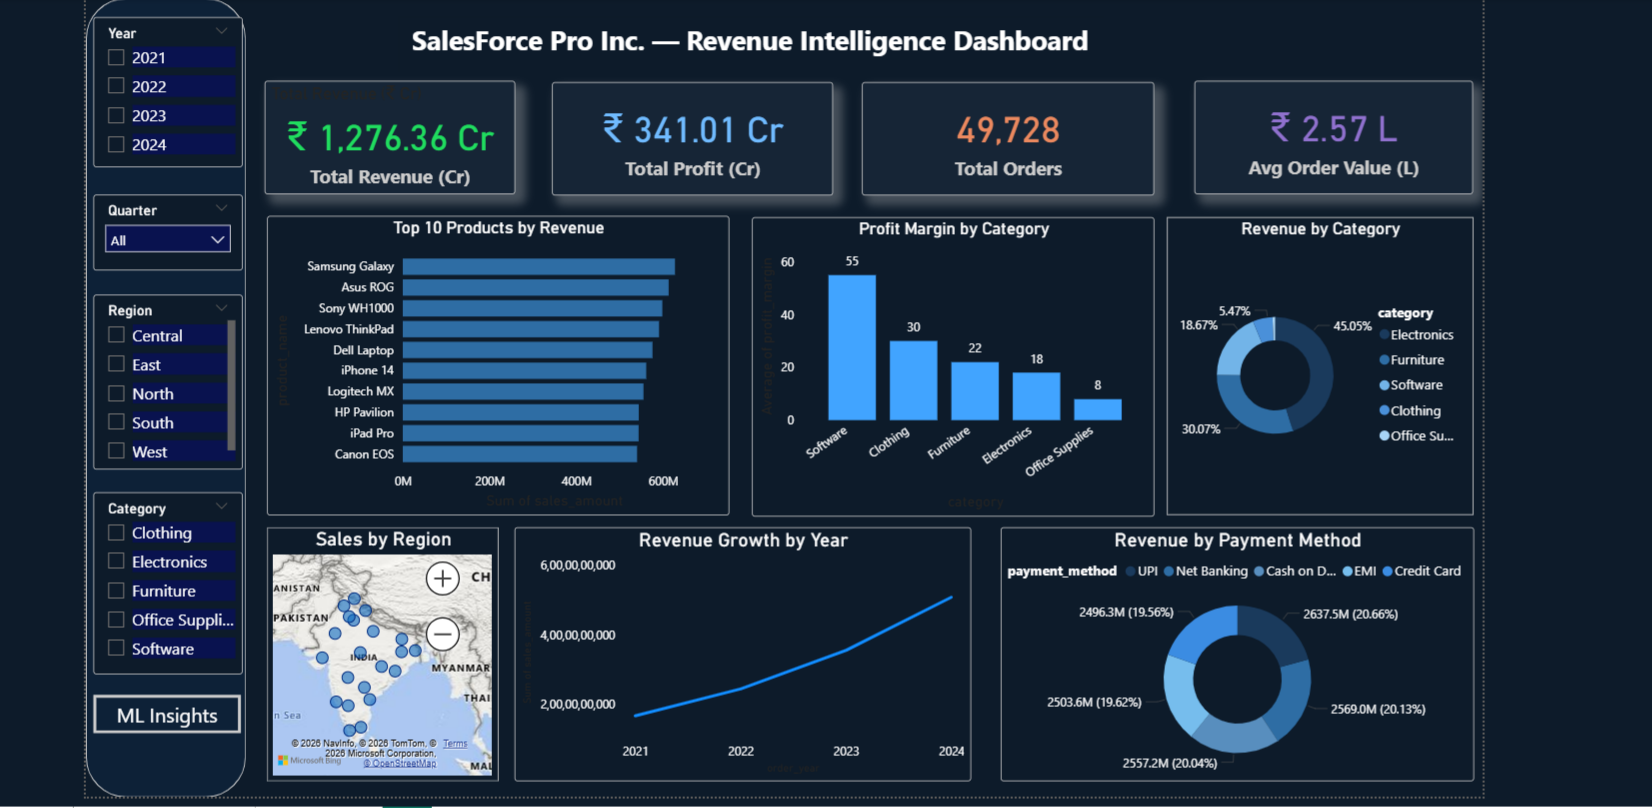

The page's visual inventory and layout, read from the dashboard file:
{"tool":"powerbi","page":{"name":"Executive summary","canvas":[1400,800],"ordinal":0},"visuals":[{"type":"textbox","box":[314.7,18.7,705.3,54.7],"z":0},{"type":"card","title":"Total Revenue (₹ Cr)","fields":{"Values":["public sales_data.Total Revenue (Cr)"]},"box":[179.7,82.9,251.6,113.3],"z":1000},{"type":"card","fields":{"Values":["public sales_data.Avg Order Value (L)"]},"box":[1111.3,82.9,279.2,113.3],"z":2000},{"type":"card","fields":{"Values":["public sales_data.Total Orders"]},"box":[778.2,84.3,293,113.3],"z":3000},{"type":"card","fields":{"Values":["public sales_data.Total Profit (Cr)"]},"box":[467.2,84.3,282,113.3],"z":4000},{"type":"shape","box":[0,0,160.3,800.3],"z":5000},{"type":"slicer","fields":{"Values":["public sales_data.order_year"]},"box":[6.9,19.4,149.3,150.7],"z":6000},{"type":"slicer","fields":{"Values":["public sales_data.order_quarter"]},"box":[6.9,196.3,149.3,76],"z":7000},{"type":"slicer","fields":{"Values":["public sales_data.region"]},"box":[6.9,297.2,149.3,175.5],"z":8000},{"type":"slicer","fields":{"Values":["public sales_data.category"]},"box":[6.9,494.8,149.3,182.4],"z":9000},{"type":"clusteredBarChart","title":"Top 10 Products by Revenue","fields":{"Category":["public sales_data.product_name"],"Y":["Sum(public sales_data.sales_amount)"]},"box":[181.1,218.4,463,299.9],"z":10000},{"type":"donutChart","title":"Revenue by Category","fields":{"Category":["public sales_data.category"],"Y":["Sum(public sales_data.sales_amount)"]},"box":[1083.6,219.8,306.8,298.6],"z":11000},{"type":"clusteredColumnChart","title":"Profit Margin by Category","fields":{"Category":["public sales_data.category"],"Y":["Avg(public sales_data.profit_margin)"]},"box":[667.6,219.8,403.6,299.9],"z":12000},{"type":"map","title":"Sales by Region","fields":{"Category":["public sales_data.state"]},"box":[181.1,529.4,232.2,254.3],"z":13000},{"type":"lineChart","title":"Revenue Growth by Year","fields":{"Category":["public sales_data.order_year"],"Y":["Sum(public sales_data.sales_amount)"]},"box":[429.9,529.4,457.5,254.3],"z":14000},{"type":"donutChart","title":"Revenue by Payment Method","fields":{"Category":["public sales_data.payment_method"],"Y":["Sum(public sales_data.sales_amount)"]},"box":[916.4,529.4,474.1,254.3],"z":15000},{"type":"actionButton","box":[6.9,698,147.9,38.7],"z":16000}]}

Visuals, with their boxes on the page's 1400x800 design canvas (x1, y1, x2, y2). These are canvas units, not pixel positions in the 1652x808 screenshot, which may show the page scaled, cropped or inside an application window:
textbox: [x1=315, y1=19, x2=1020, y2=73]
"Total Revenue (₹ Cr)" card: [x1=180, y1=83, x2=431, y2=196]
card - public sales_data.Avg Order Value (L): [x1=1111, y1=83, x2=1390, y2=196]
card - public sales_data.Total Orders: [x1=778, y1=84, x2=1071, y2=198]
card - public sales_data.Total Profit (Cr): [x1=467, y1=84, x2=749, y2=198]
shape: [x1=0, y1=0, x2=160, y2=800]
slicer - public sales_data.order_year: [x1=7, y1=19, x2=156, y2=170]
slicer - public sales_data.order_quarter: [x1=7, y1=196, x2=156, y2=272]
slicer - public sales_data.region: [x1=7, y1=297, x2=156, y2=473]
slicer - public sales_data.category: [x1=7, y1=495, x2=156, y2=677]
"Top 10 Products by Revenue" clusteredBarChart: [x1=181, y1=218, x2=644, y2=518]
"Revenue by Category" donutChart: [x1=1084, y1=220, x2=1390, y2=518]
"Profit Margin by Category" clusteredColumnChart: [x1=668, y1=220, x2=1071, y2=520]
"Sales by Region" map: [x1=181, y1=529, x2=413, y2=784]
"Revenue Growth by Year" lineChart: [x1=430, y1=529, x2=887, y2=784]
"Revenue by Payment Method" donutChart: [x1=916, y1=529, x2=1390, y2=784]
actionButton: [x1=7, y1=698, x2=155, y2=737]
